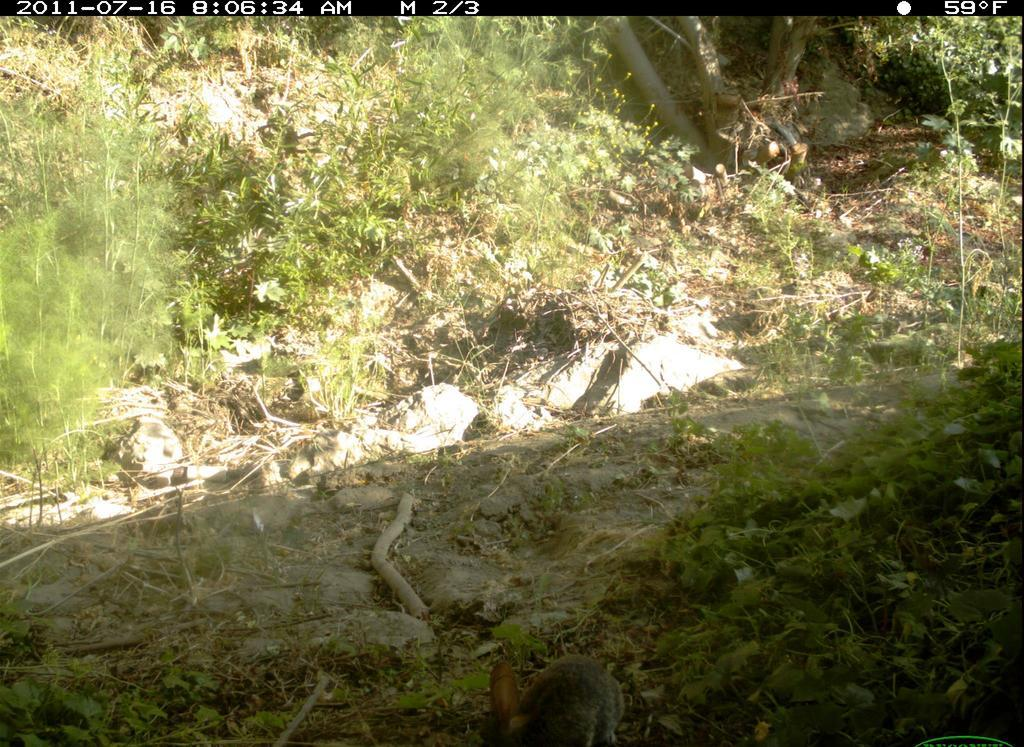rabbit: (470, 639, 633, 744)
